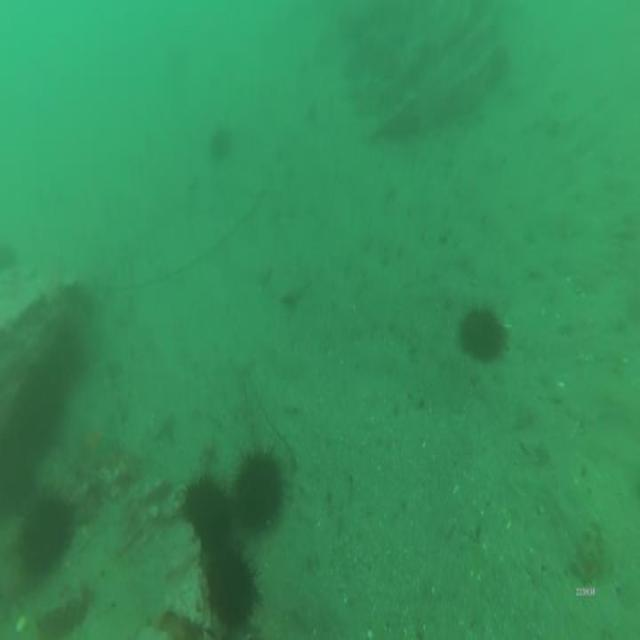echinus: (19, 499, 73, 580), (206, 547, 252, 621), (237, 455, 281, 528), (184, 480, 231, 547), (460, 305, 504, 363)
holothurian: (572, 522, 602, 578)
